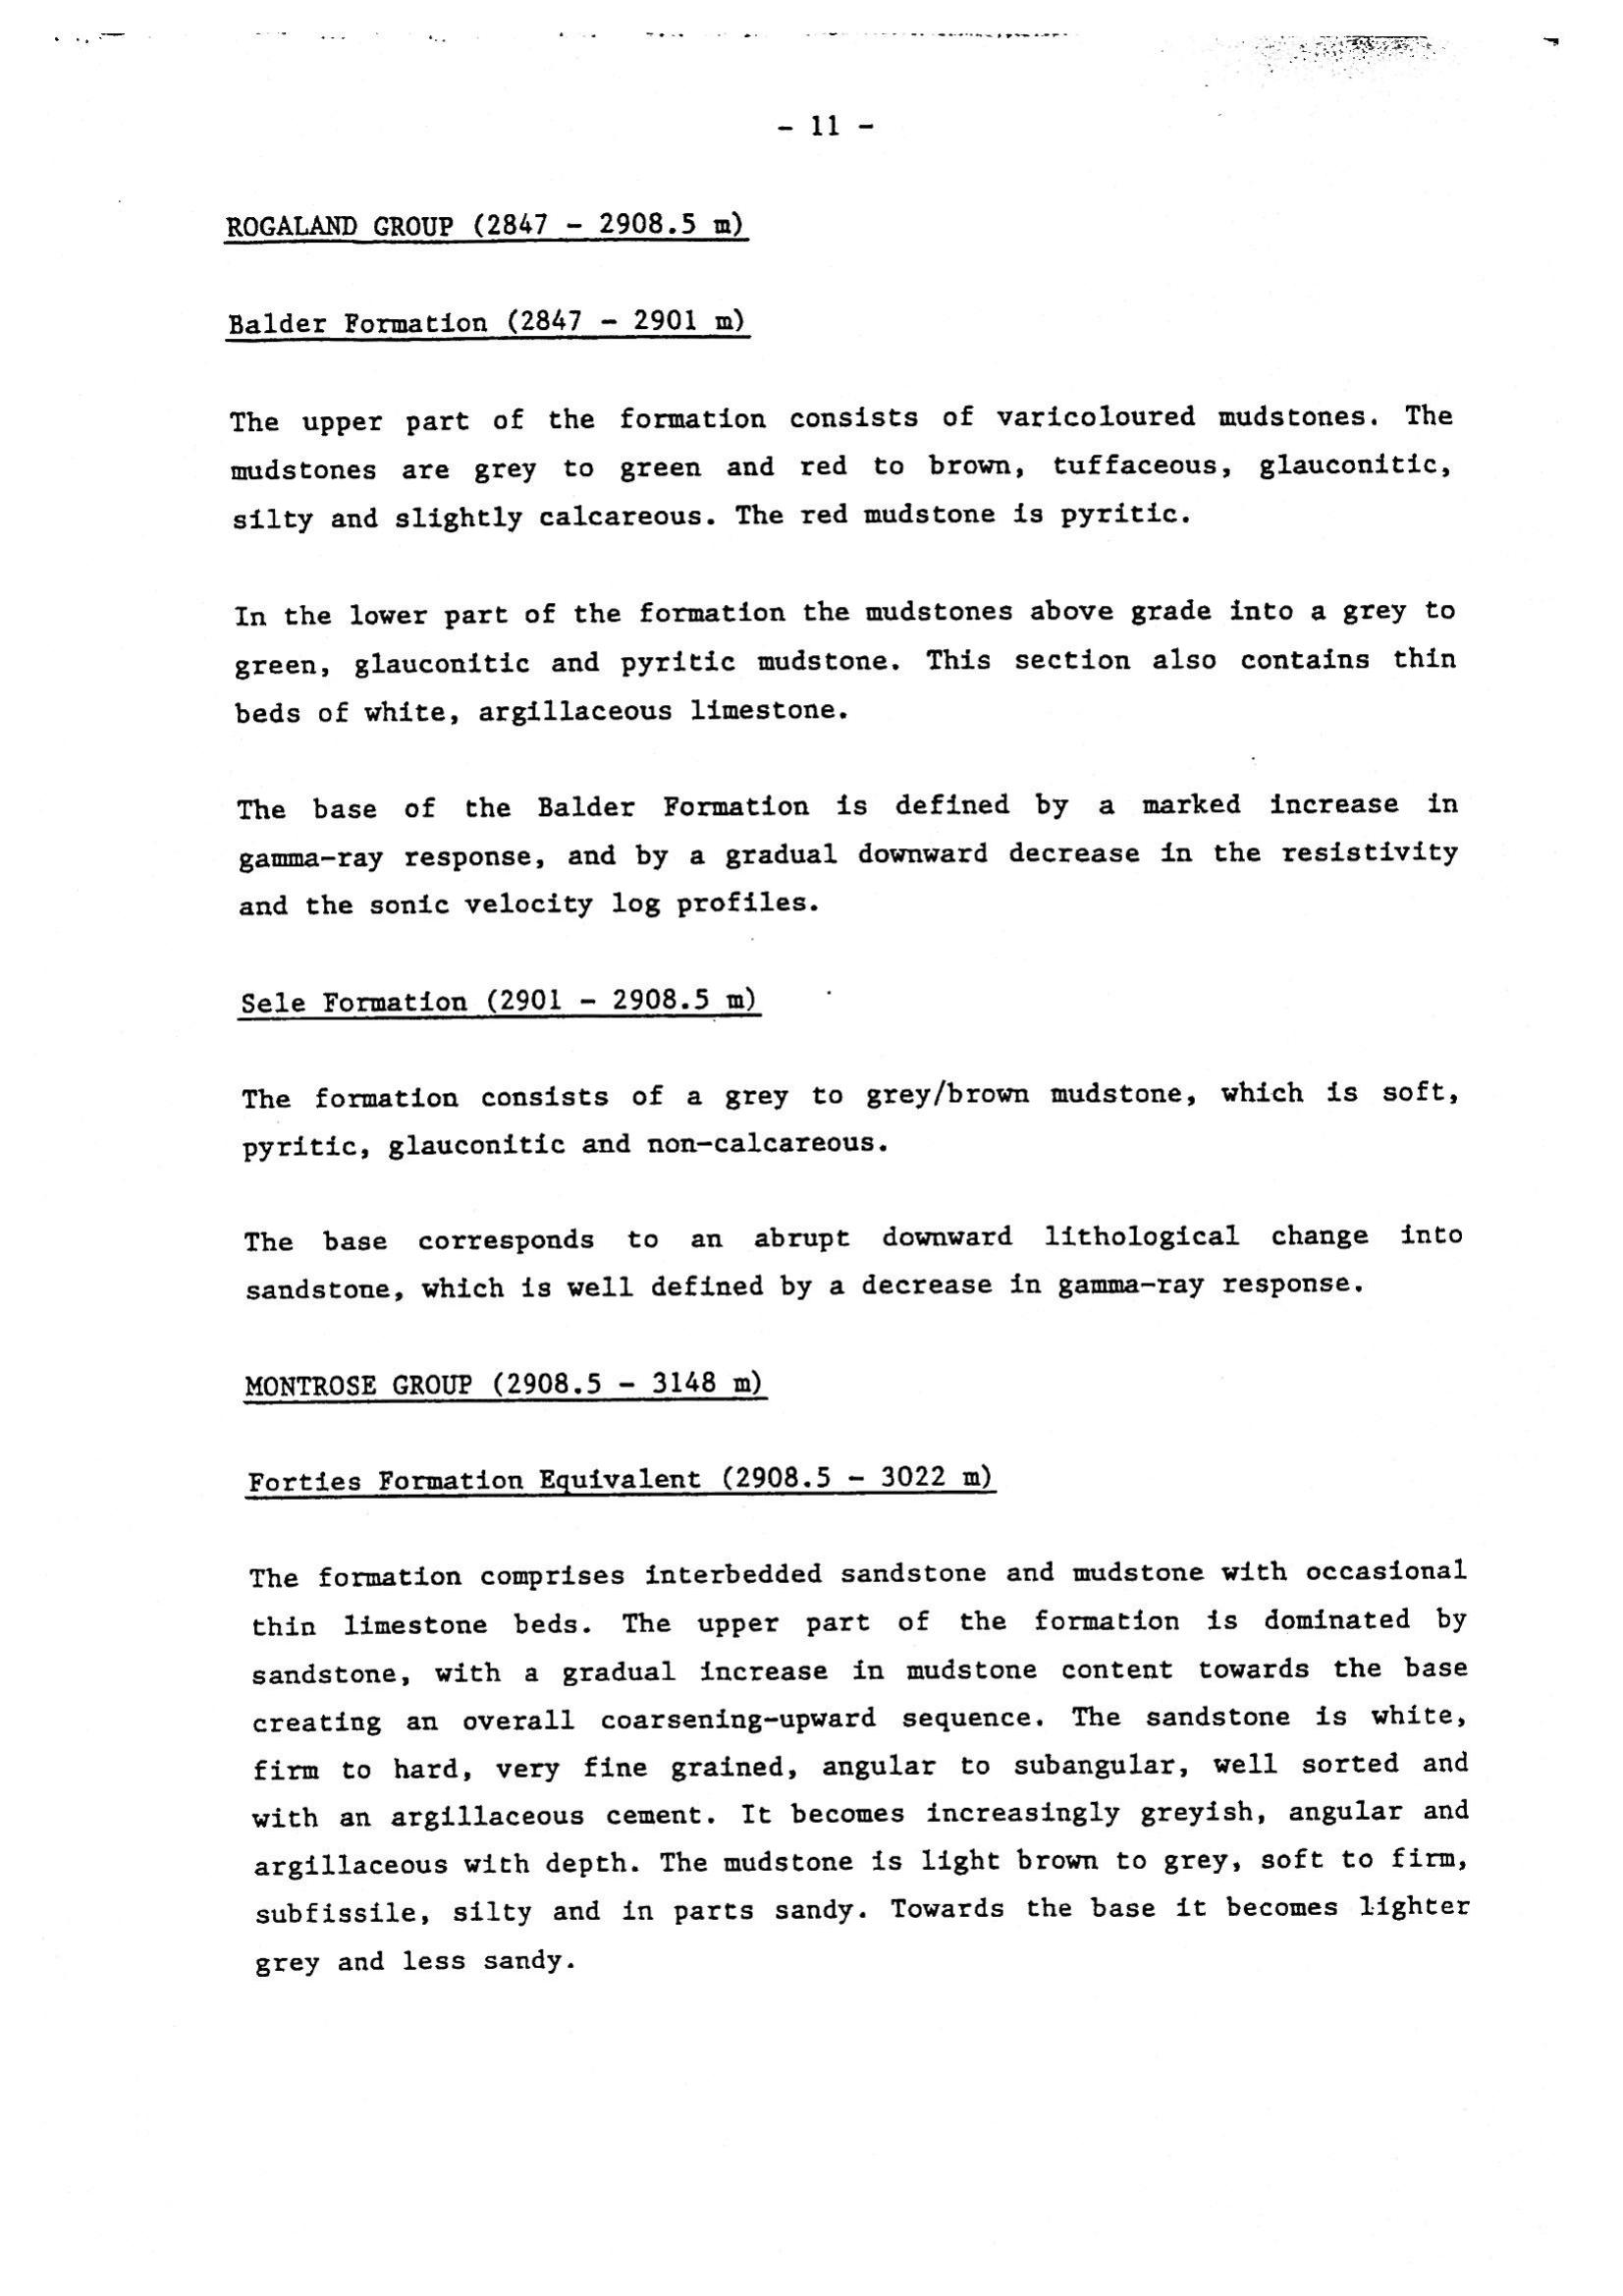text: (200, 190, 1509, 1335), (200, 1361, 1518, 2032)
